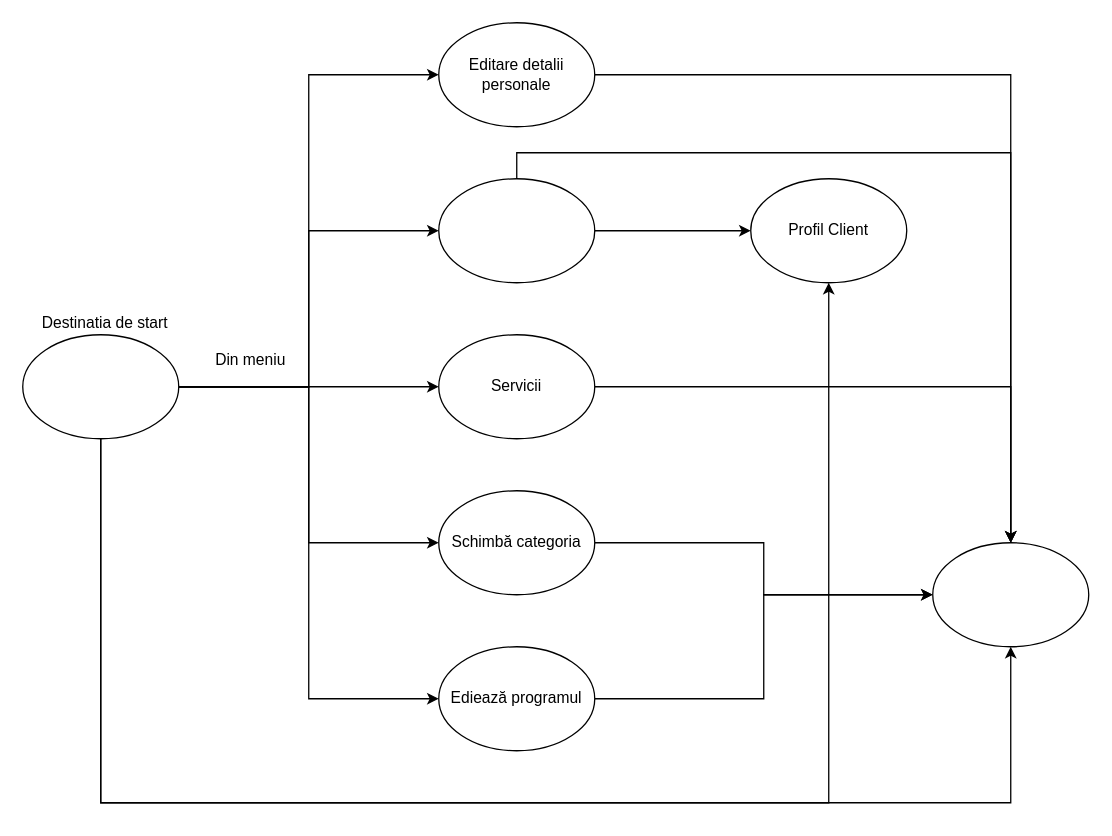
Some shapes in this 1112 by 836 pixel diagram are drawn without their labels. Each missing label, with the box of its shape:
Acasă (Programări acceptate): (21, 333, 179, 439)
Adăugare Serviciu: (931, 541, 1089, 647)
Programări în așteptare: (437, 177, 595, 283)
